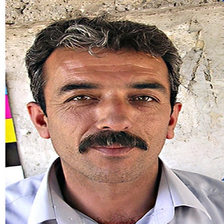no_mask: (38, 49, 177, 182)
